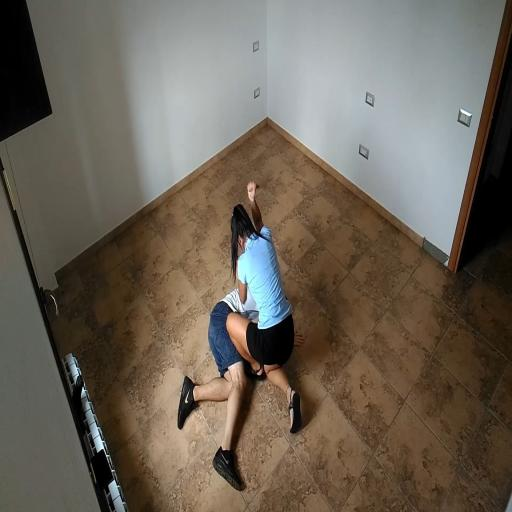violencia: (141, 174, 311, 498)
